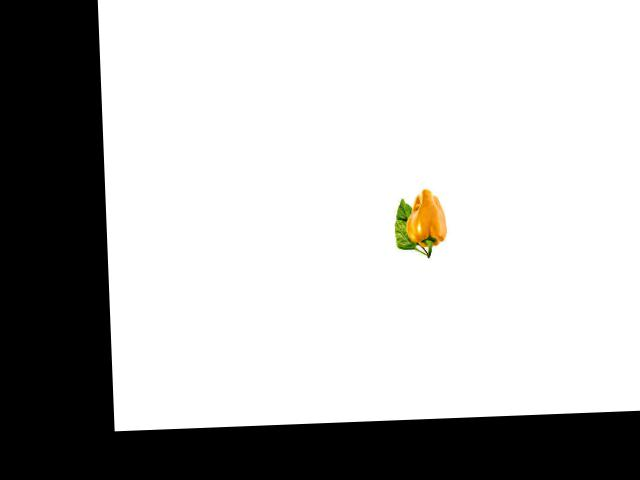bell_pepper: (403, 186, 451, 260)
